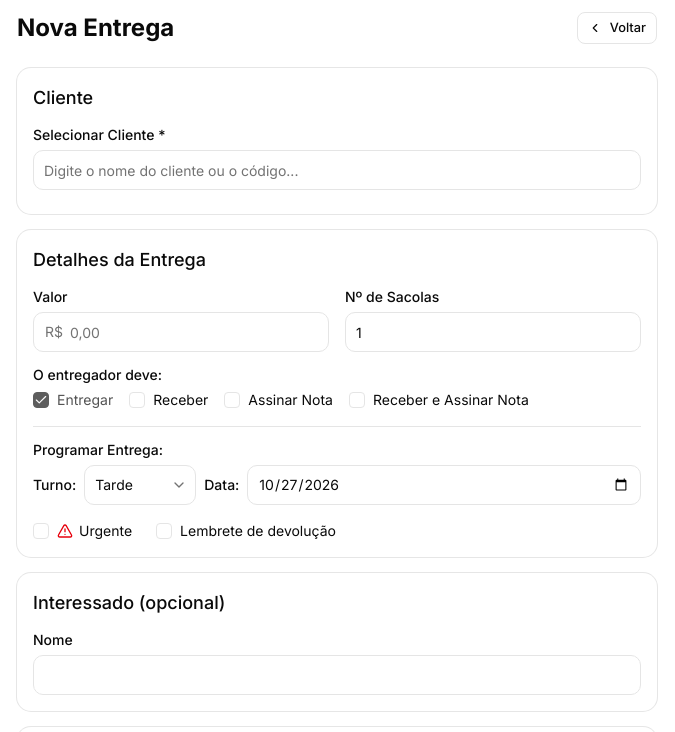
Test: NovaEntregaForm › reveals the return notes textarea when the return reminder is checked
This screenshot has width=675, height=732.
Expected: the field labelled "o que deve ser pego de devolução" is not shown
Click the checkbox named "lembrete de devolução" next to "Lembrete de devolução": (164, 531) [156, 523, 172, 539]
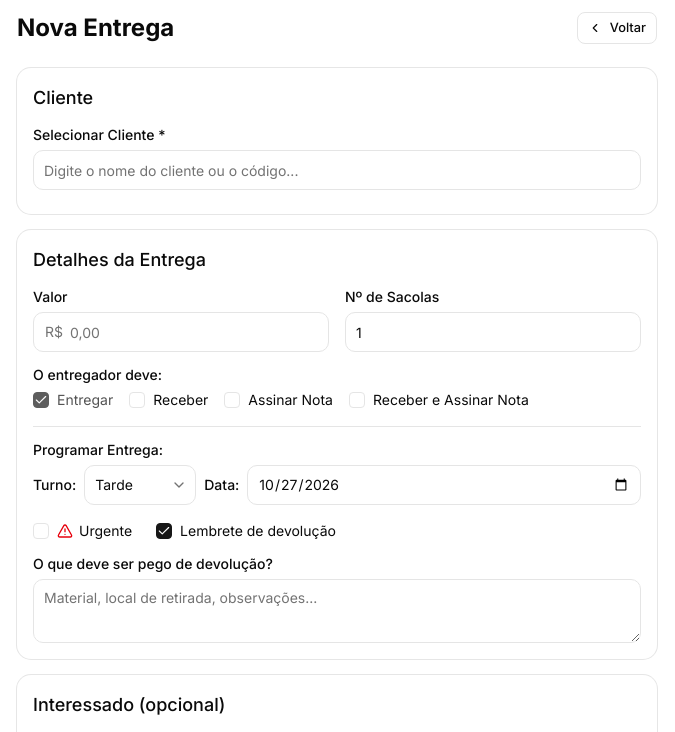
Expected: the text box labelled "O que deve ser pego de devolução?" is shown, [33, 579, 641, 643]
